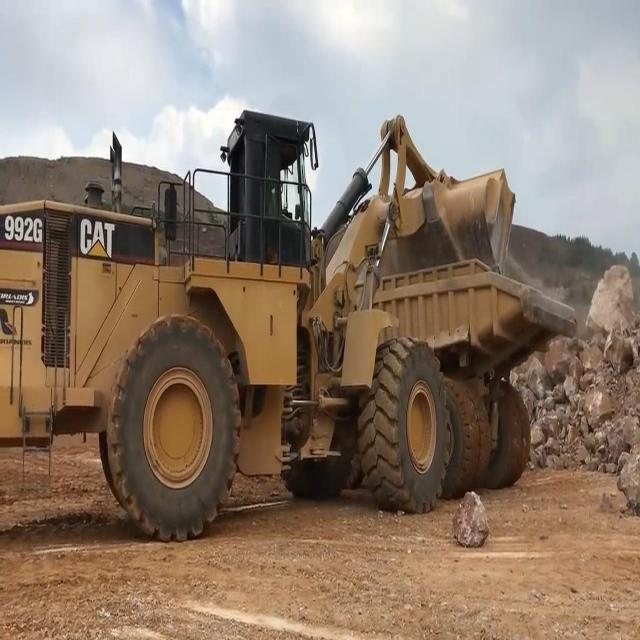Camion volquete: (359, 249, 578, 501)
pala cargadora: (2, 99, 513, 546)
